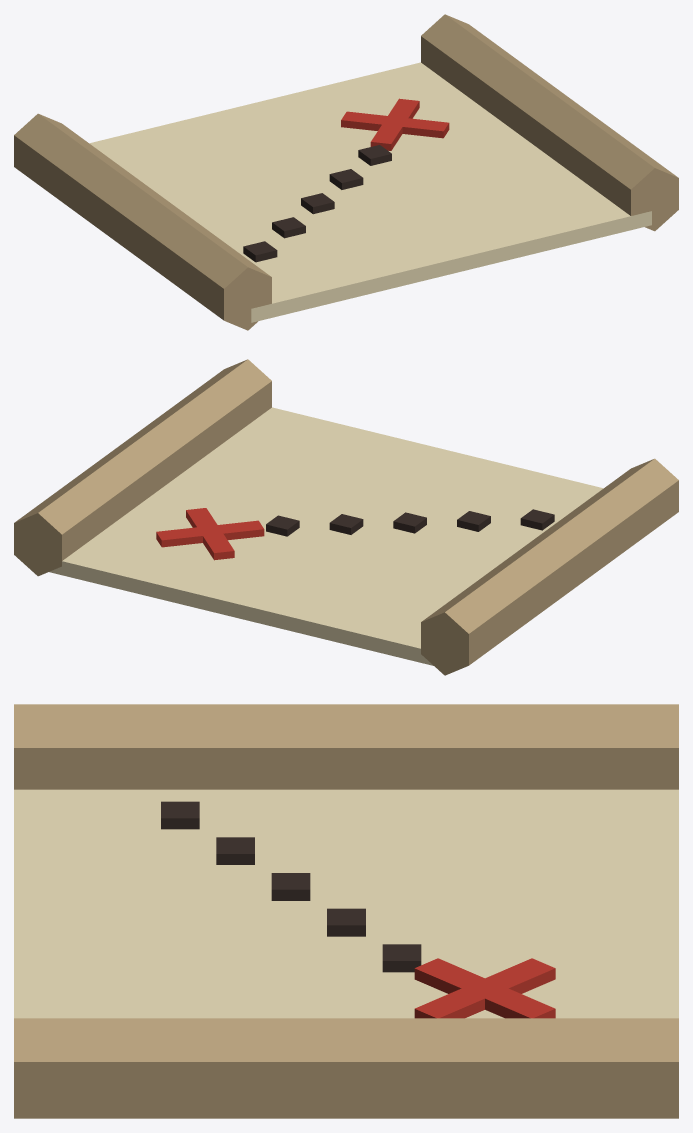
The model's file is PuzzleMap.fbx.
3 views of the same model, one above another, from view 1: azimuth 30°, elevation 25°; view 2: azimuth 150°, elevation 25°; view 3: azimuth 270°, elevation 25° (orthographic). The views are drawn at different scales.
Visible parts, largest first — view 1: PuzzleMap; view 2: PuzzleMap; view 3: PuzzleMap.
Part boxes in pixels (x1,y1,x2,y2): PuzzleMap: (14,14,678,330); PuzzleMap: (14,359,678,675); PuzzleMap: (14,704,678,1118).
Size of the model in its own units: 1.5 by 0.2 by 1.2.
